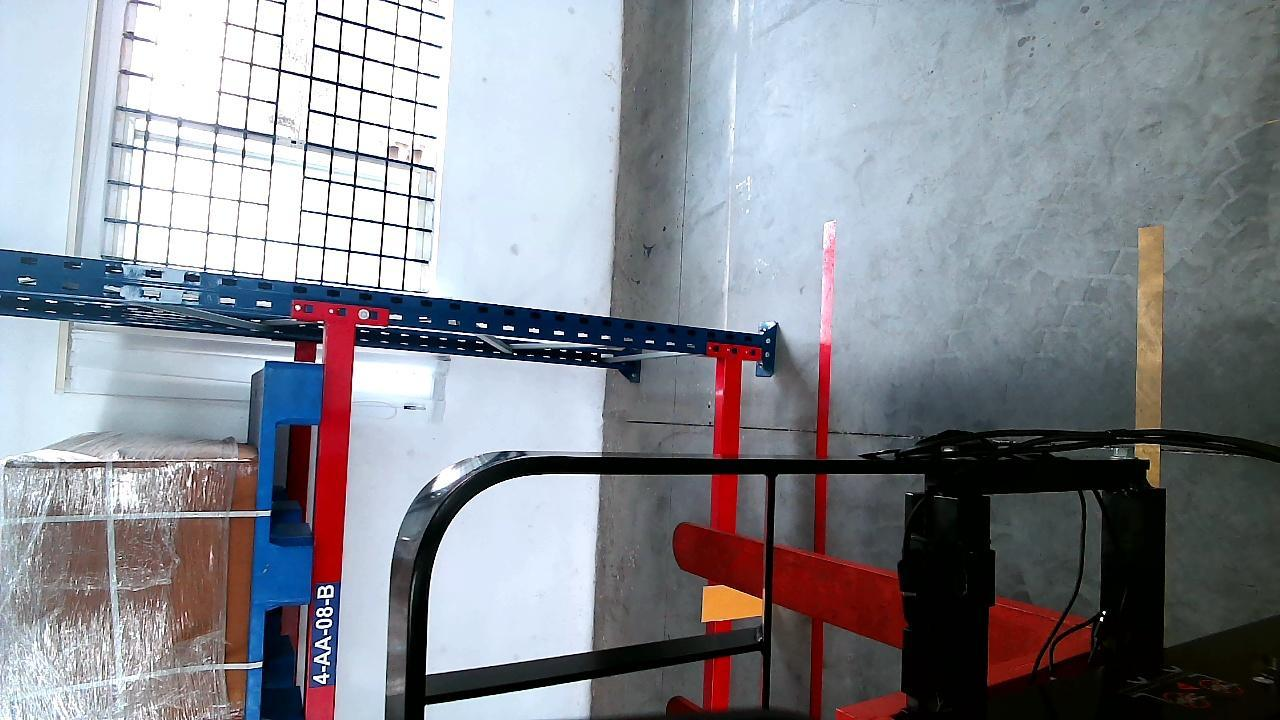red_line: (815, 224, 836, 480)
yellow_line: (1137, 222, 1162, 451)
